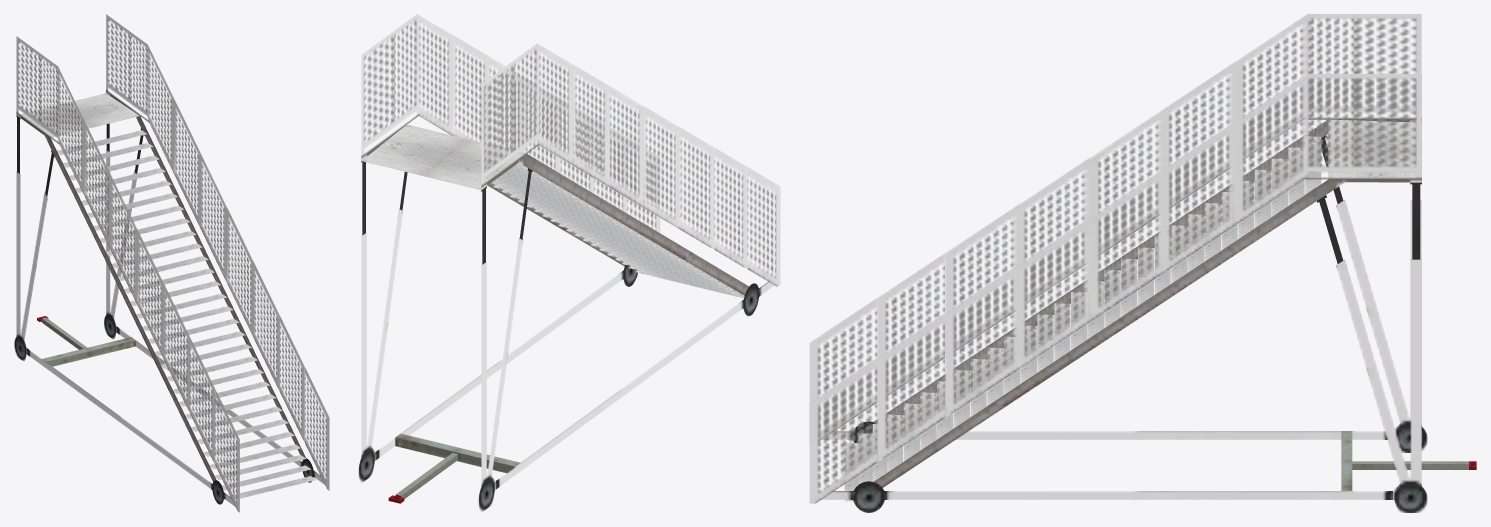
The model's file is GSE_A320_stairs.gltf.
3 views of the same model, side by side, from view 1: azimuth 30°, elevation 25°; view 2: azimuth 150°, elevation 25°; view 3: azimuth 270°, elevation 25° (orthographic). The views are drawn at different scales.
Visible parts, largest first — view 1: GSE_A320_stairs; view 2: GSE_A320_stairs; view 3: GSE_A320_stairs.
Part boxes in pixels (left/top/right/bottom): GSE_A320_stairs: left=14, top=14, right=329, bottom=512; GSE_A320_stairs: left=358, top=14, right=780, bottom=511; GSE_A320_stairs: left=809, top=14, right=1476, bottom=512.
Size of the model in its own units: 1.3 by 4.44 by 6.11.
1 material, 1 textured.
